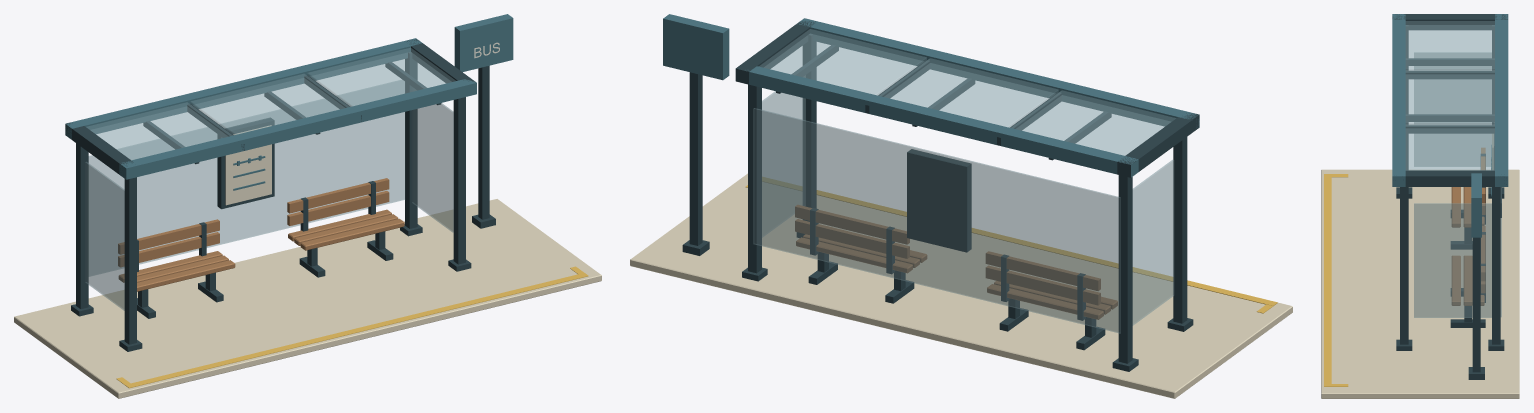
Rendered from bus-stop-01.glb.
3 views of the same model, side by side, from view 1: azimuth 30°, elevation 25°; view 2: azimuth 150°, elevation 25°; view 3: azimuth 270°, elevation 25° (orthographic). The views are drawn at different scales.
Parts seen in each view (by area): view 1: SidewalkPad, ShelterBackGlass, CanopyFascia, CanopyFascia.001, CanopyPanel.001, ShelterSideGlass, CanopyPanel.002, ShelterSideGlass.001, CanopyPanel, StopSign, StopZoneYellowDecal, InformationPanel (+18 smaller); view 2: ShelterBackGlass, SidewalkPad, CanopyFascia.001, CanopyFascia, CanopyPanel.001, CanopyPanel.002, ShelterSideGlass, InformationCase, CanopyPanel, ShelterSideGlass.001, StopSign, CanopyColumn.001 (+15 smaller); view 3: SidewalkPad, ShelterSideGlass.001, ShelterSideGlass, CanopyPanel.001, CanopyPanel, CanopyPanel.002, CanopyFascia, CanopyFascia.001, StopZoneYellowDecal, CanopySide, CanopyColumn.002, CanopyColumn.003 (+16 smaller).
Boxes of the visible parts, x1,y1,x2,y2 form: SidewalkPad: [14, 199, 601, 398]; ShelterBackGlass: [88, 80, 404, 276]; CanopyFascia: [119, 79, 476, 179]; CanopyFascia.001: [65, 38, 422, 139]; CanopyPanel.001: [190, 74, 349, 135]; ShelterSideGlass: [85, 162, 124, 310]; CanopyPanel.002: [307, 48, 455, 106]; ShelterSideGlass.001: [412, 88, 453, 232]; CanopyPanel: [86, 102, 232, 160]; StopSign: [454, 14, 513, 72]; StopZoneYellowDecal: [125, 273, 588, 388]; InformationPanel: [225, 125, 271, 205]; ShelterBackGlass: [753, 108, 1120, 333]; SidewalkPad: [630, 173, 1292, 398]; CanopyFascia.001: [745, 66, 1138, 177]; CanopyFascia: [797, 18, 1199, 128]; CanopyPanel.001: [879, 58, 1058, 127]; CanopyPanel.002: [759, 29, 926, 95]; ShelterSideGlass: [1132, 160, 1174, 325]; InformationCase: [907, 149, 971, 252]; CanopyPanel: [1011, 90, 1175, 155]; ShelterSideGlass.001: [762, 75, 805, 237]; StopSign: [663, 14, 729, 80]; CanopyColumn.001: [1118, 175, 1132, 363]; SidewalkPad: [1321, 169, 1519, 398]; ShelterSideGlass.001: [1414, 203, 1491, 317]; ShelterSideGlass: [1414, 52, 1491, 166]; CanopyPanel.001: [1405, 70, 1494, 124]; CanopyPanel: [1405, 21, 1494, 70]; CanopyPanel.002: [1405, 124, 1494, 170]; CanopyFascia: [1392, 14, 1405, 186]; CanopyFascia.001: [1495, 14, 1508, 186]; StopZoneYellowDecal: [1324, 174, 1331, 386]; CanopySide: [1392, 14, 1507, 30]; CanopyColumn.002: [1400, 187, 1408, 344]; CanopyColumn.003: [1492, 187, 1500, 344].
Size of the model in its own units: 8 by 3.28 by 3.
